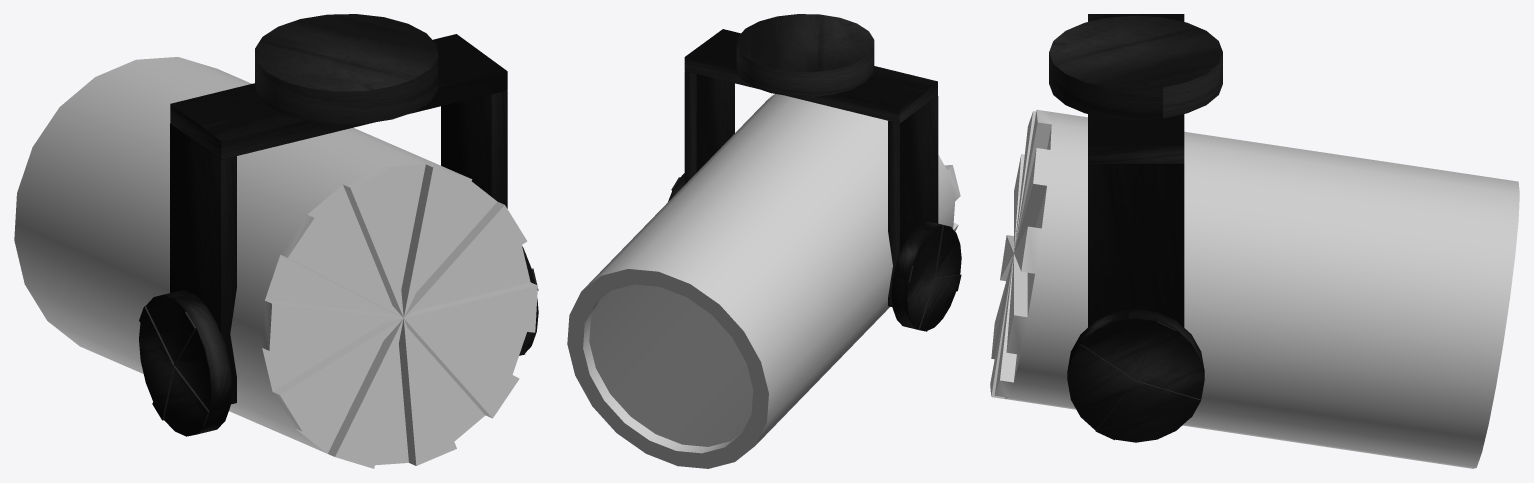
Rendered from spotlight1.fbx.
The picture shows the model from 3 angles, left to right: view 1: azimuth 30°, elevation 25°; view 2: azimuth 150°, elevation 25°; view 3: azimuth 270°, elevation 25°; orthographic projection. The views are drawn at different scales.
Visible parts, largest first — view 1: pCylinder4, pCube4, pCylinder2, pCylinder3; view 2: pCylinder4, pCube4, pCylinder2, pCylinder3; view 3: pCylinder4, pCube4, pCylinder2, pCylinder1.
Part boxes in pixels (x1,y1,x2,y2): pCylinder4: (14,57,537,468); pCube4: (170,34,507,404); pCylinder2: (255,14,438,124); pCylinder3: (139,290,232,436); pCylinder4: (567,94,960,468); pCube4: (684,29,938,307); pCylinder2: (736,14,874,96); pCylinder3: (891,221,961,331); pCylinder4: (990,109,1519,468); pCube4: (1088,14,1184,327); pCylinder2: (1049,15,1222,120); pCylinder1: (1067,309,1204,442).
Size of the model in its own units: 31.6 by 39.38 by 46.41.
